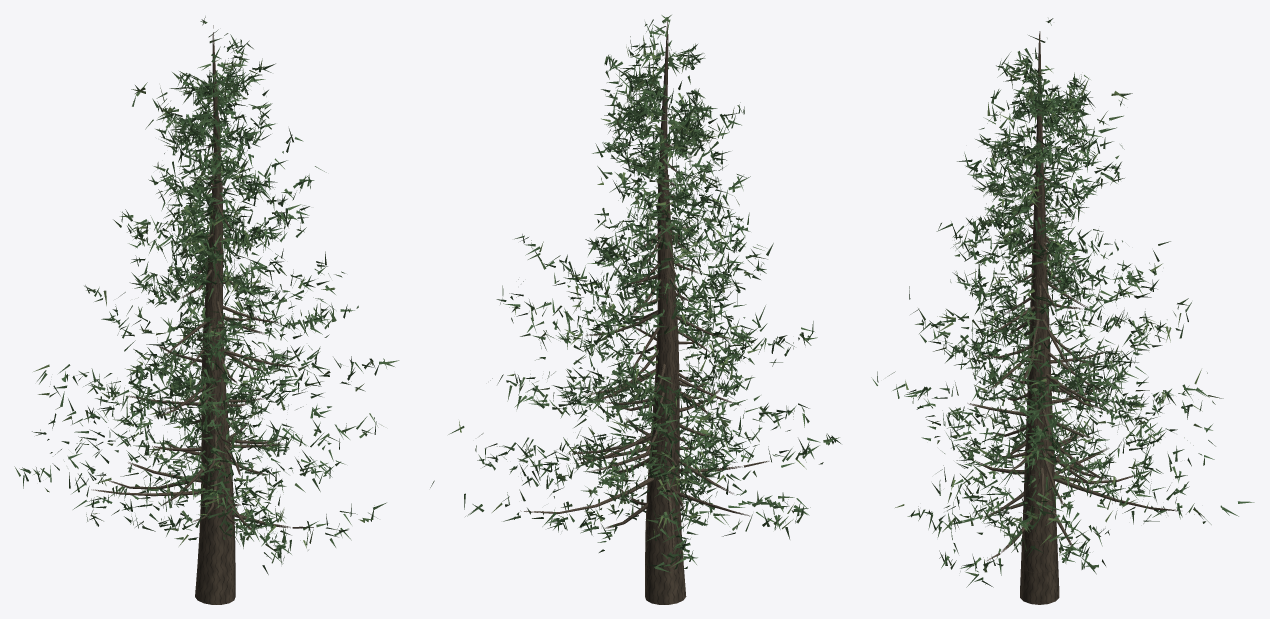
File: fir_mobile.glb
The picture shows the model from 3 angles, left to right: view 1: azimuth 30°, elevation 25°; view 2: azimuth 150°, elevation 25°; view 3: azimuth 270°, elevation 25°; orthographic projection.
Parts seen in each view (by area): view 1: MobileNeedlesMerged, BranchingFir218.001; view 2: MobileNeedlesMerged, BranchingFir218.001; view 3: MobileNeedlesMerged, BranchingFir218.001.
Boxes of the visible parts, bbox=[...] form: MobileNeedlesMerged: bbox=[14, 16, 399, 574]; BranchingFir218.001: bbox=[91, 25, 313, 604]; MobileNeedlesMerged: bbox=[430, 15, 840, 572]; BranchingFir218.001: bbox=[520, 21, 769, 604]; MobileNeedlesMerged: bbox=[871, 18, 1254, 587]; BranchingFir218.001: bbox=[959, 31, 1177, 604].
Size of the model in its own units: 5.79 by 9.09 by 5.49.
2 materials, 2 textured.
